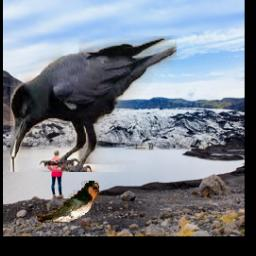Crow: (10, 37, 177, 173)
Swallow: (37, 182, 99, 224)
